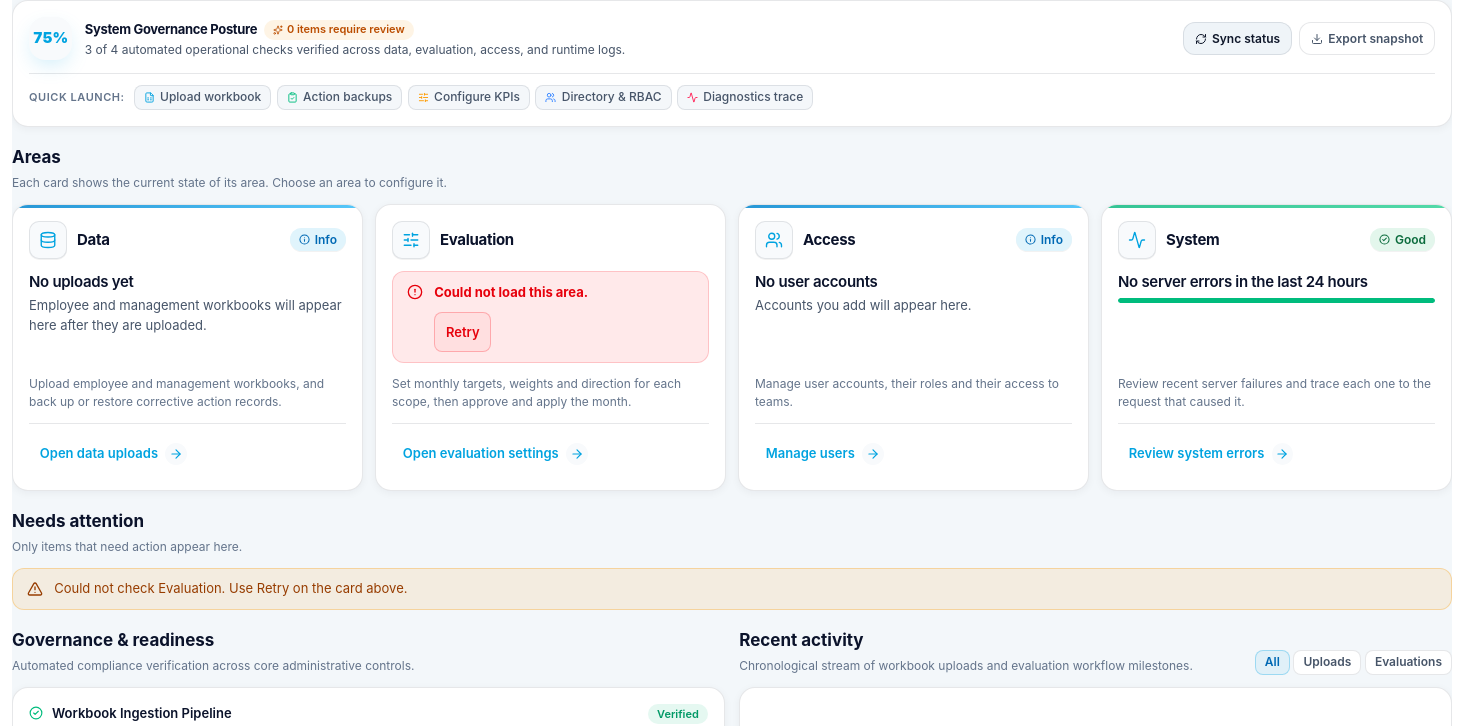
AdminOverview Evaluation card › shows an error with Retry for its own request, and Retry recovers
Expected: the text "Could not load this area." is shown, [434, 283, 588, 301]
Expected: the text "Could not check Evaluation. Use Retry on the card above." is shown, [54, 580, 408, 598]
Click the button with aria-label "Retry Evaluation" at (463,332), box [434, 312, 491, 352]
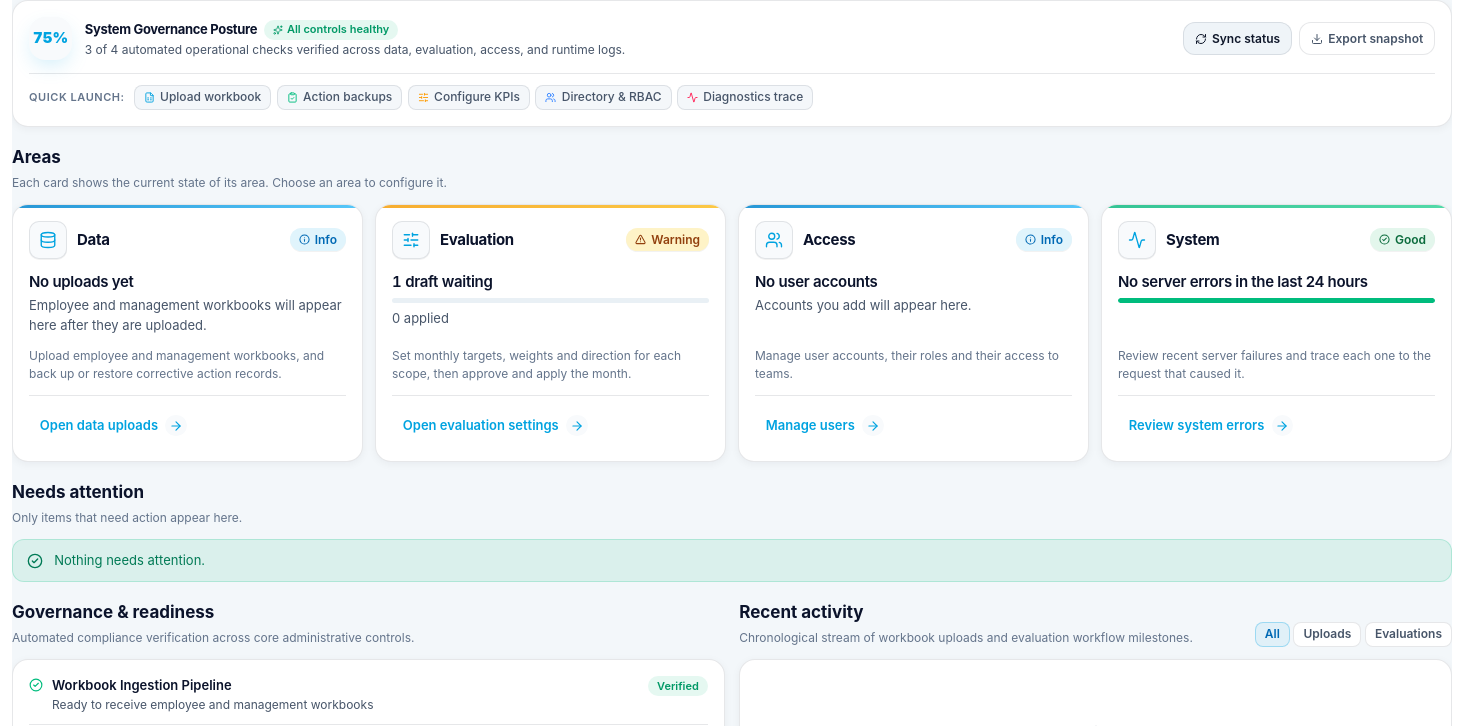
Now the text "1 draft waiting" is shown, box [392, 272, 492, 291]
